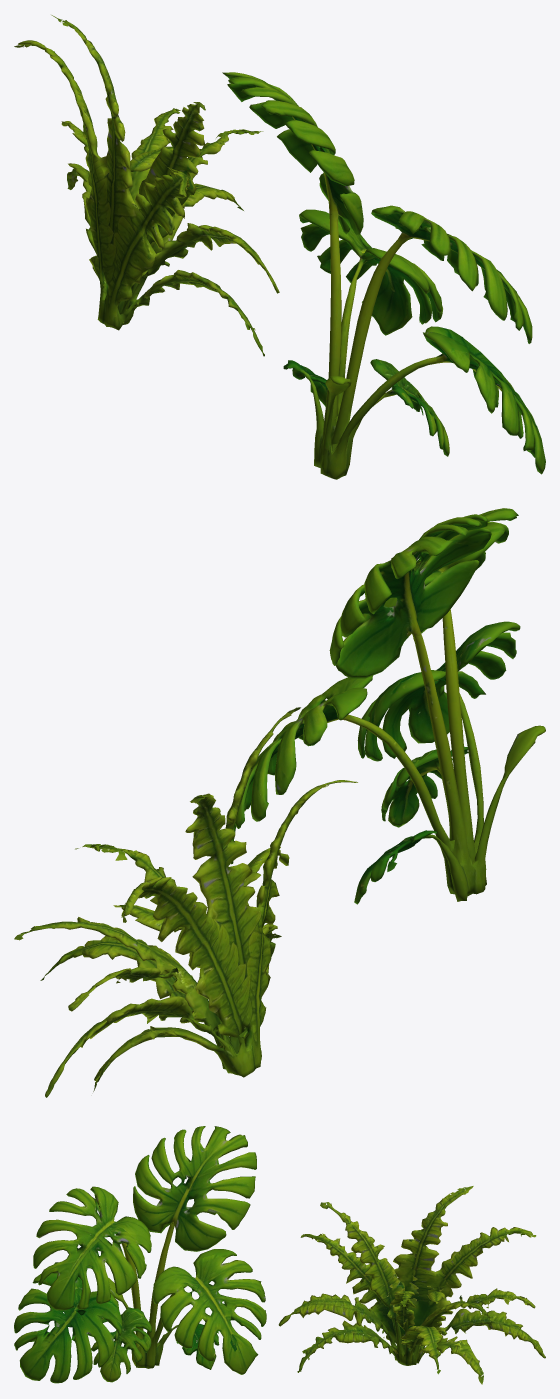
The model's file is tripo_pbr_model_eb306993-5625-4ea7-9c99-72459090b411.fbx.
3 renders of one model, top to bottom at view 1: azimuth 30°, elevation 25°; view 2: azimuth 150°, elevation 25°; view 3: azimuth 270°, elevation 25°, orthographic. The views are drawn at different scales.
Visible parts, largest first — view 1: tripo_node_eb306993; view 2: tripo_node_eb306993; view 3: tripo_node_eb306993.
Part boxes in pixels (x1,y1,x2,y2): tripo_node_eb306993: (14, 15, 545, 479); tripo_node_eb306993: (14, 508, 545, 1097); tripo_node_eb306993: (14, 1126, 545, 1384).
Bounding box in the file's own units: 25.87 × 47.26 × 99.63.
Materials: 1 (1 with a texture image).
